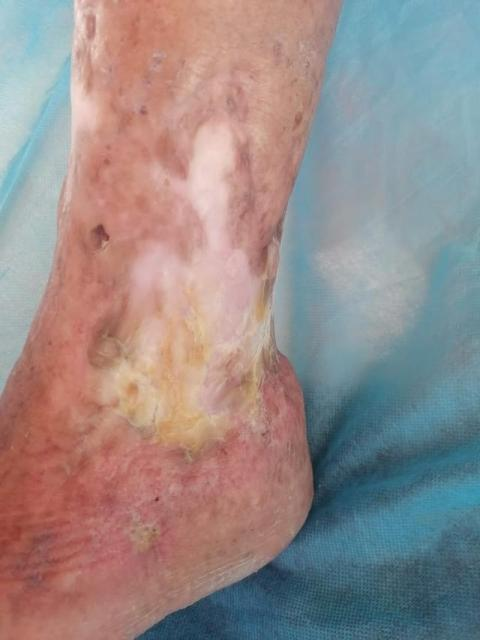wound: (94, 117, 285, 456), (124, 504, 167, 551), (89, 224, 109, 253)
